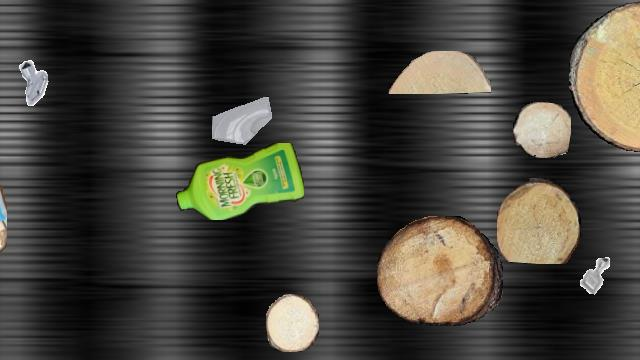glass: (212, 96, 274, 158)
metal: (570, 250, 622, 302), (12, 57, 60, 105)
plastic: (176, 143, 304, 219), (0, 81, 6, 269)
wood: (377, 216, 503, 326), (569, 1, 640, 151), (497, 178, 581, 264), (388, 51, 490, 93), (513, 102, 571, 158), (266, 294, 318, 352), (629, 14, 640, 138)
